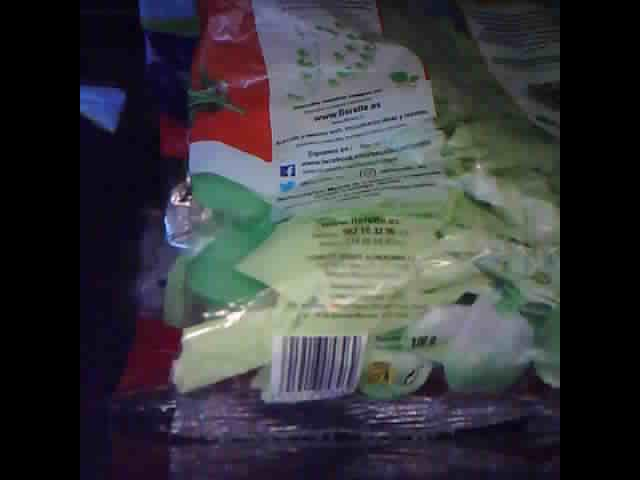florette: (146, 5, 559, 446), (105, 1, 213, 414)
